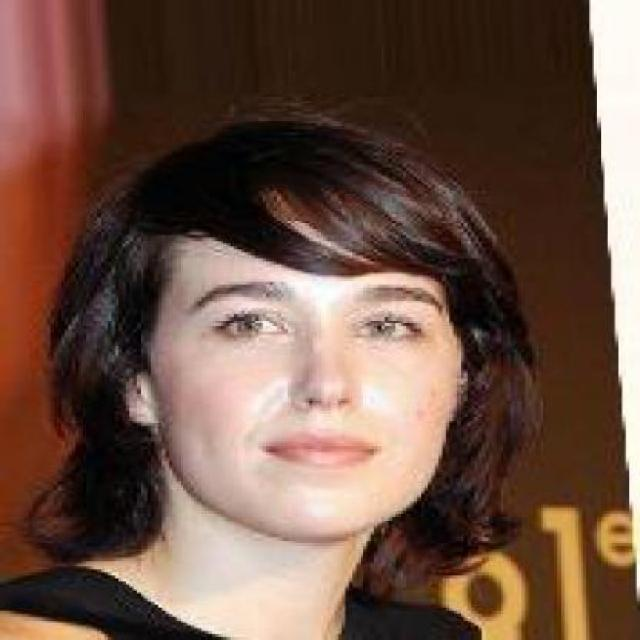closed-mouth: (264, 434, 374, 468)
